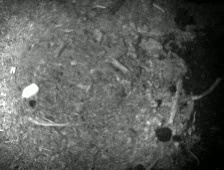corn: (19, 81, 42, 101)
